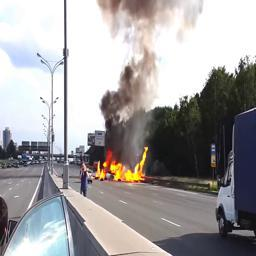fire: (98, 146, 148, 182)
